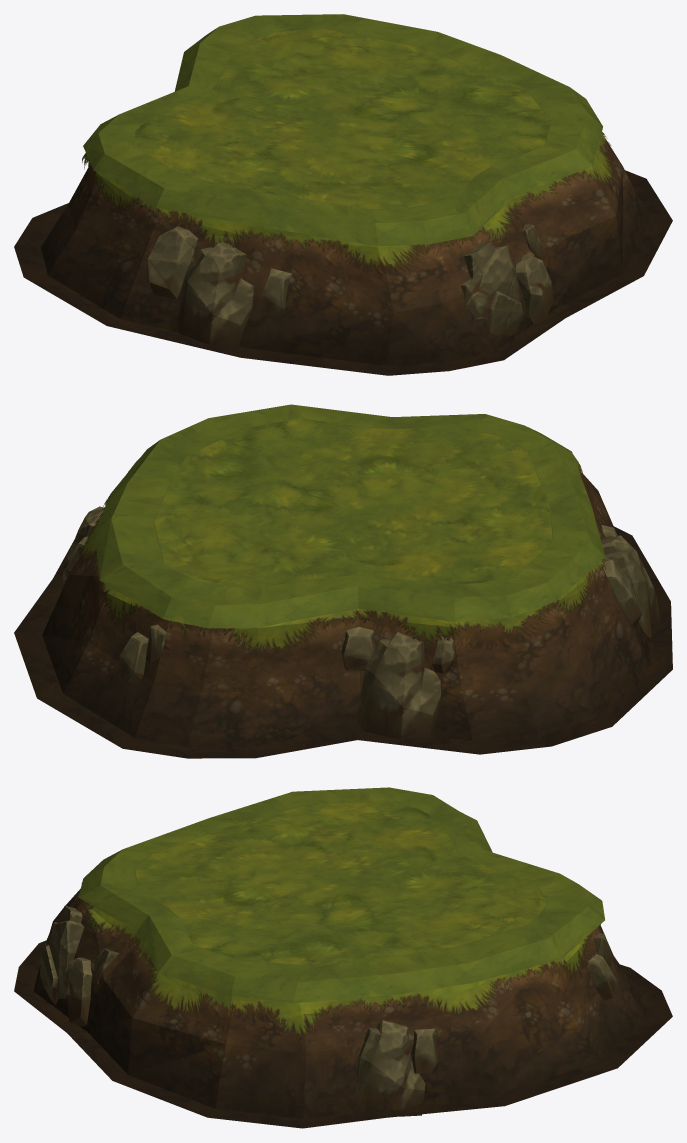
Rendered from riverbed_mesa_01.fbx.
The picture shows the model from 3 angles, top to bottom: view 1: azimuth 30°, elevation 25°; view 2: azimuth 150°, elevation 25°; view 3: azimuth 270°, elevation 25°; orthographic projection. The views are drawn at different scales.
Parts seen in each view (by area): view 1: obj3.011; view 2: obj3.011; view 3: obj3.011.
Part boxes in pixels (x1,y1,x2,y2): obj3.011: [14, 14, 672, 375]; obj3.011: [14, 404, 672, 758]; obj3.011: [14, 787, 672, 1128].
Bounding box in the file's own units: 21.13 × 4.76 × 22.11.
